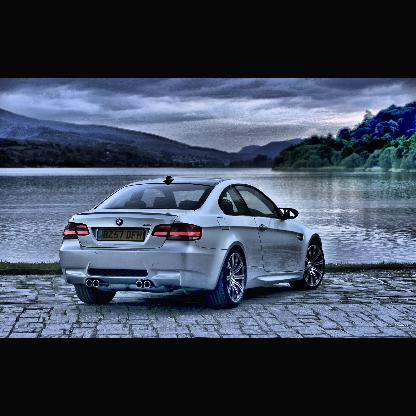BMW M3 Coupe 2012: (61, 177, 326, 310)
